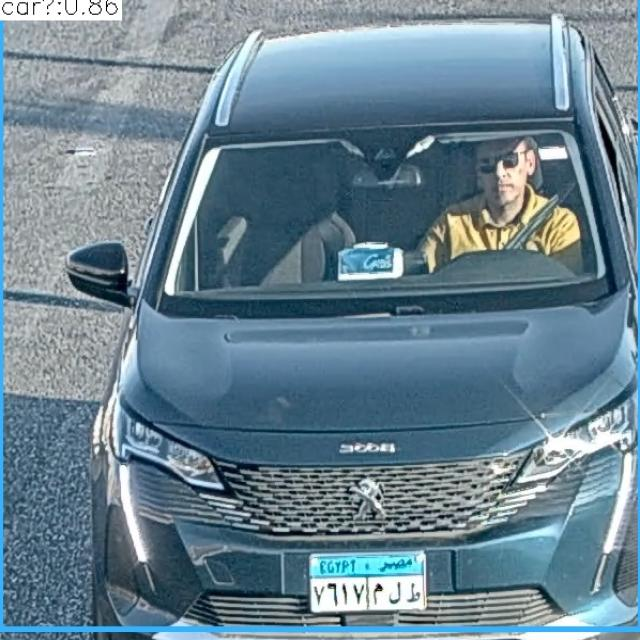windshield: (147, 140, 613, 283)
